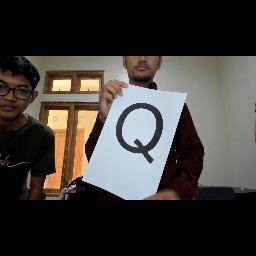q: (114, 102, 170, 168)
